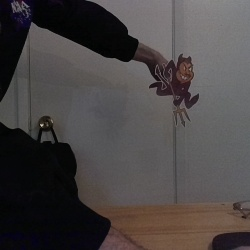sparky: (147, 52, 199, 126)
